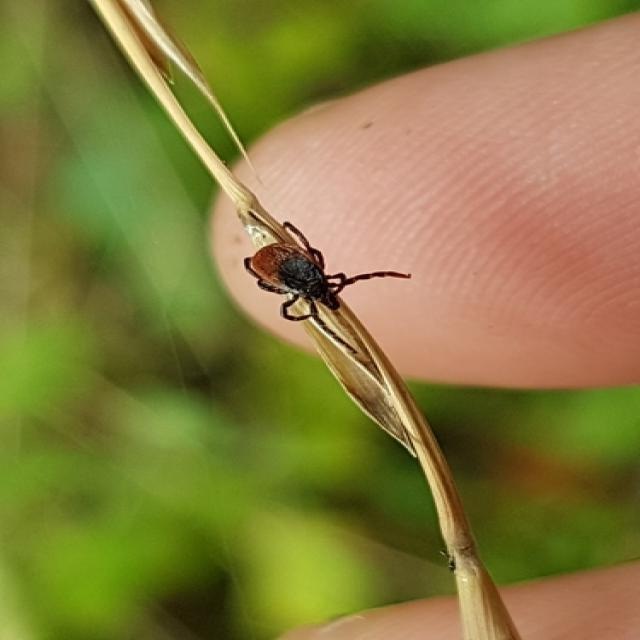Ixodes Ricinus-F: (246, 223, 410, 321)
